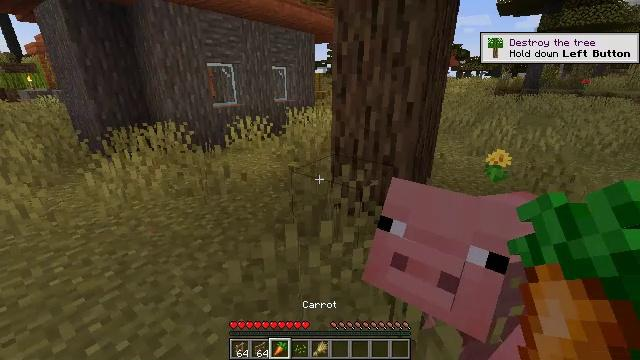pig: (373, 177, 546, 350)
